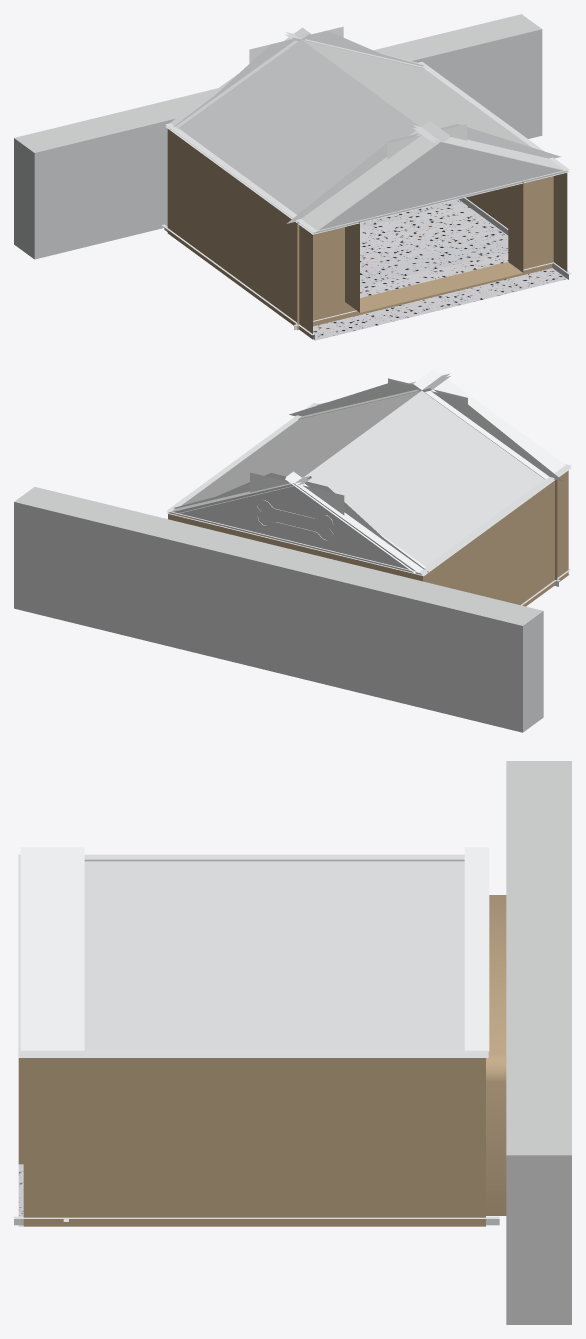
Rendered from M_Dogroomframework01.FBX.
3 renders of one model, top to bottom at view 1: azimuth 30°, elevation 25°; view 2: azimuth 150°, elevation 25°; view 3: azimuth 270°, elevation 25°, orthographic. The views are drawn at different scales.
Visible parts, largest first — view 1: M_kennel01_roof01, M_kennel01_corridor01, M_kennel01_wall01, M_kennel01_floor01, M_kennel01_light01; view 2: M_kennel01_corridor01, M_kennel01_roof01, M_kennel01_wall01, M_kennel01_light01; view 3: M_kennel01_roof01, M_kennel01_wall01, M_kennel01_corridor01.
Boxes of the visible parts, box(x1,y1,x2,y2) form: M_kennel01_roof01: box(162, 27, 571, 339); M_kennel01_corridor01: box(14, 14, 542, 259); M_kennel01_wall01: box(167, 129, 567, 339); M_kennel01_floor01: box(313, 199, 566, 340); M_kennel01_light01: box(249, 26, 466, 159); M_kennel01_corridor01: box(14, 487, 543, 732); M_kennel01_roof01: box(166, 369, 571, 605); M_kennel01_wall01: box(168, 470, 568, 606); M_kennel01_light01: box(250, 378, 467, 515); M_kennel01_roof01: box(14, 847, 499, 1225); M_kennel01_wall01: box(18, 895, 506, 1226); M_kennel01_corridor01: box(506, 761, 571, 1324).
Bounding box in the file's own units: 19.95 × 6.45 × 11.93.
